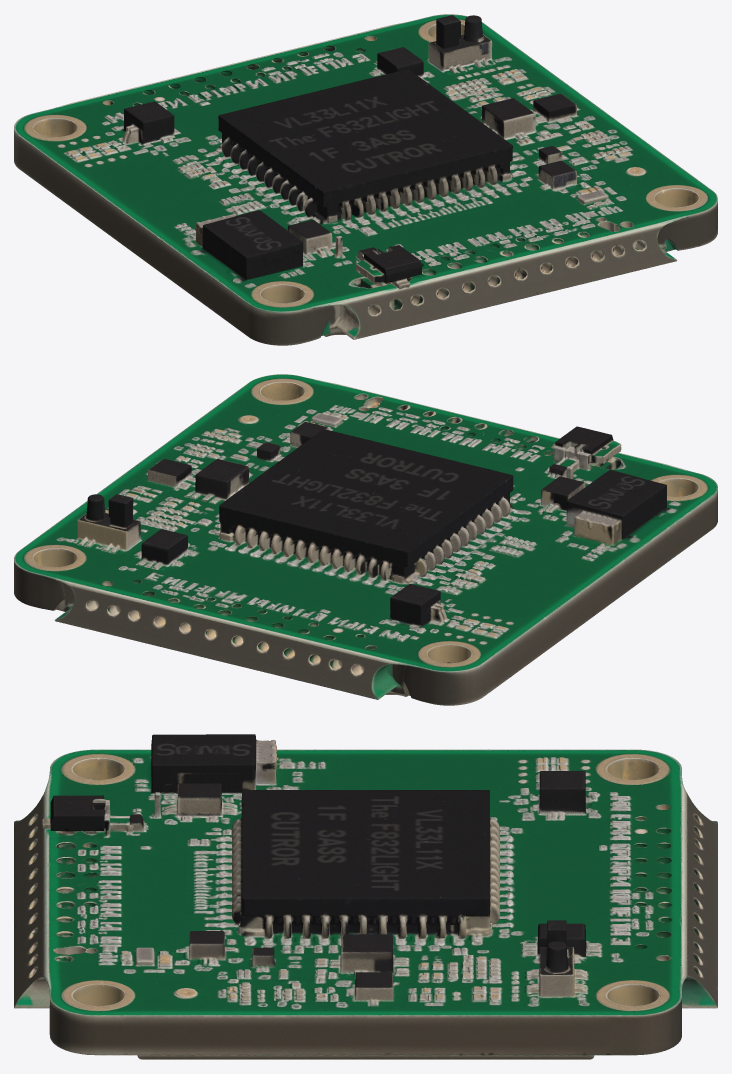
The model's file is HW20_VL53L1X_ToF.glb.
The picture shows the model from 3 angles, top to bottom: view 1: azimuth 30°, elevation 25°; view 2: azimuth 150°, elevation 25°; view 3: azimuth 270°, elevation 25°; orthographic projection. The views are drawn at different scales.
Size of the model in its own units: 1.69 by 0.3133 by 1.88.
Materials: 1 (1 with a texture image).
